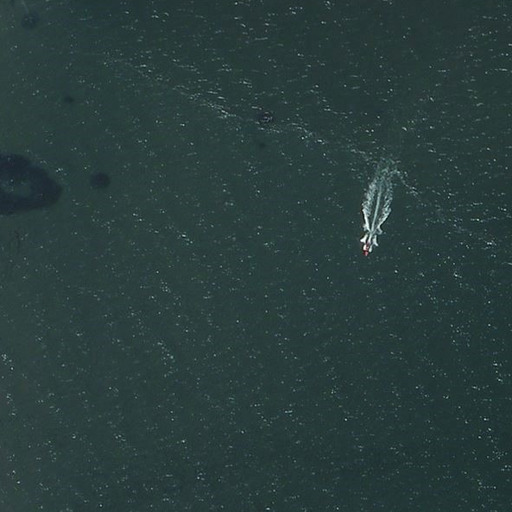ship: (356, 231, 380, 260)
